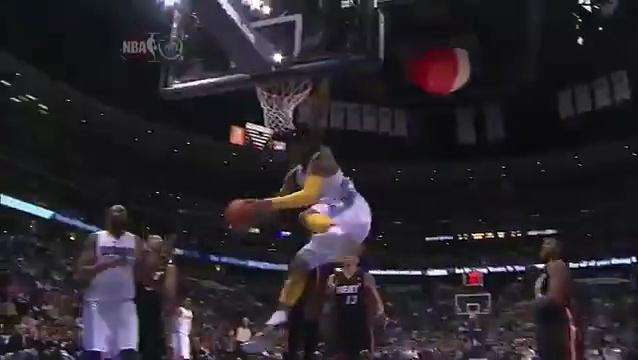Backboard: (453, 292, 494, 318)
Ball: (225, 200, 254, 229)
Basket: (253, 79, 318, 139)
Person: (227, 133, 381, 347), (65, 203, 155, 360), (522, 242, 589, 360), (324, 251, 386, 360), (136, 231, 178, 360), (176, 295, 194, 360)
Referee: (230, 315, 253, 360)
Shot Clock: (463, 271, 482, 286)
